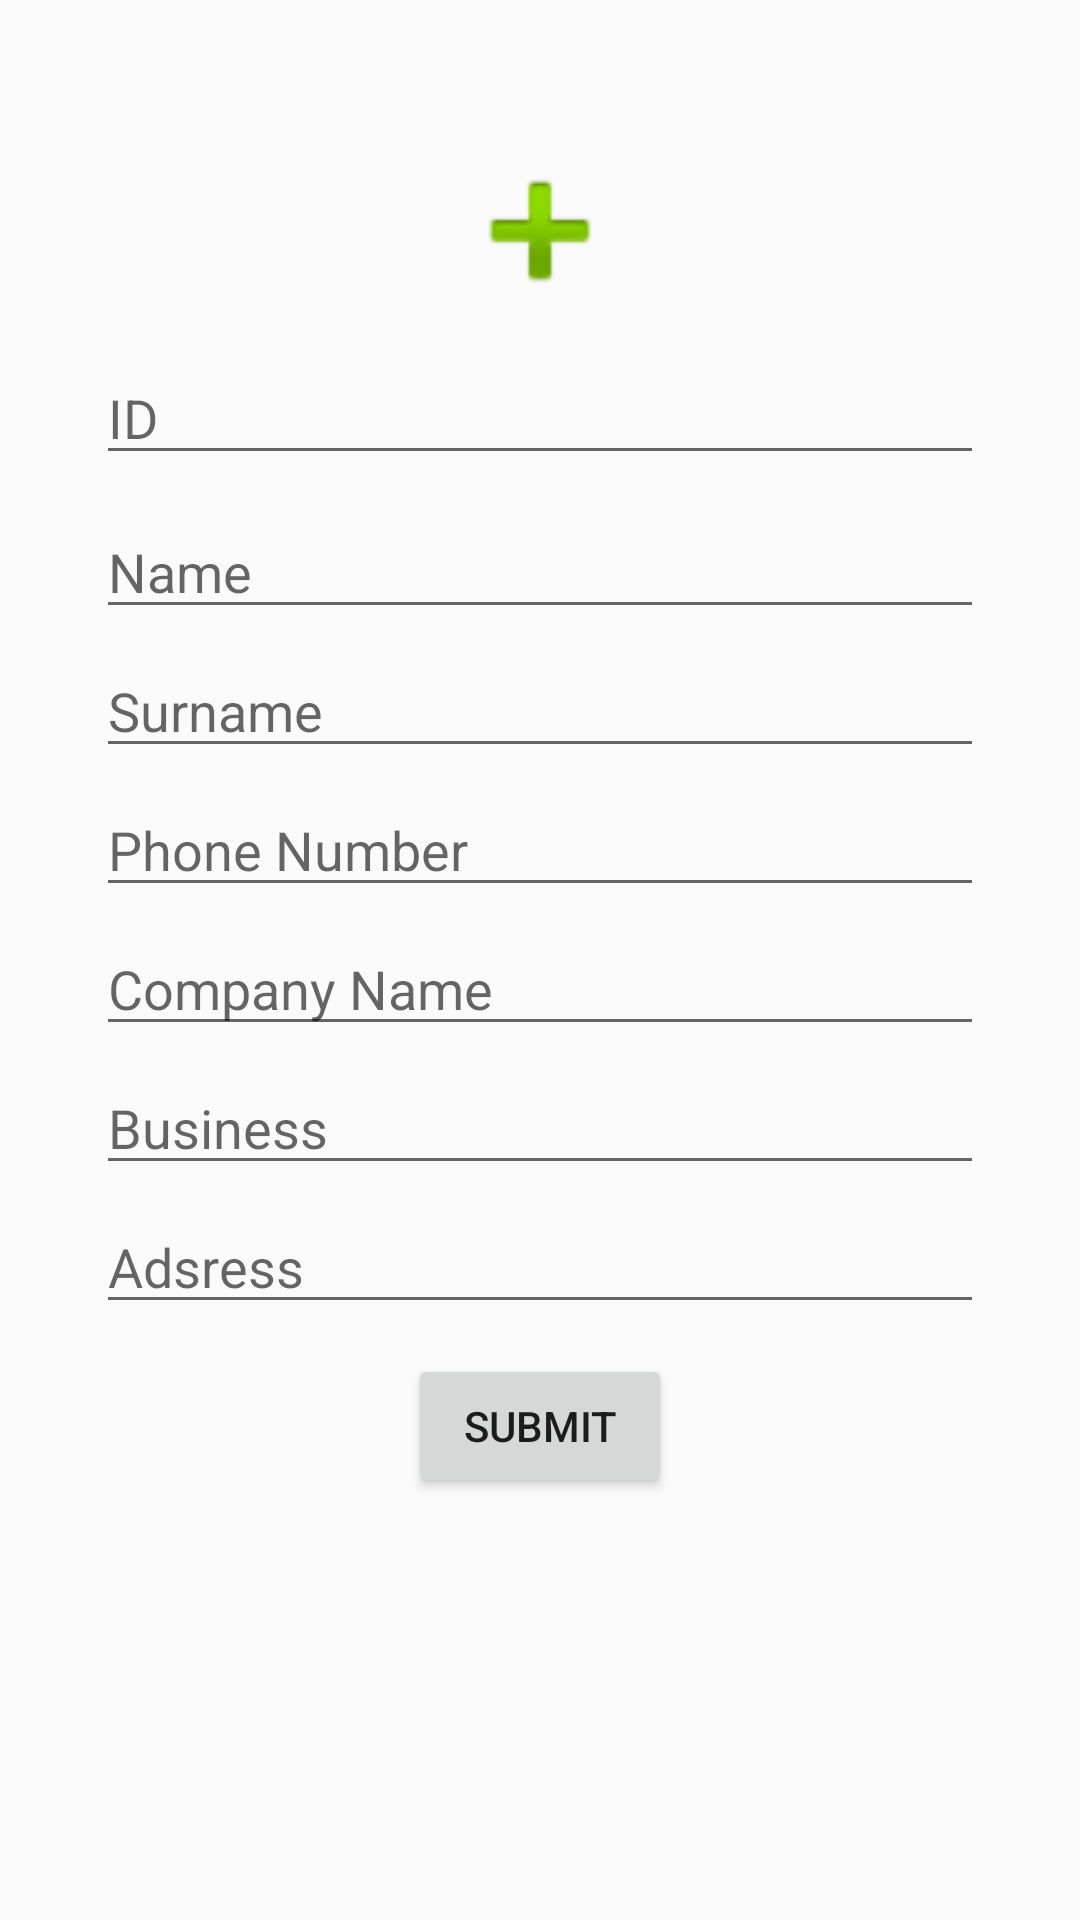

Icons on this 1080*1920 Android screen, each with its box as region(x1, y1, x2, y2):
add: region(489, 180, 591, 282)
